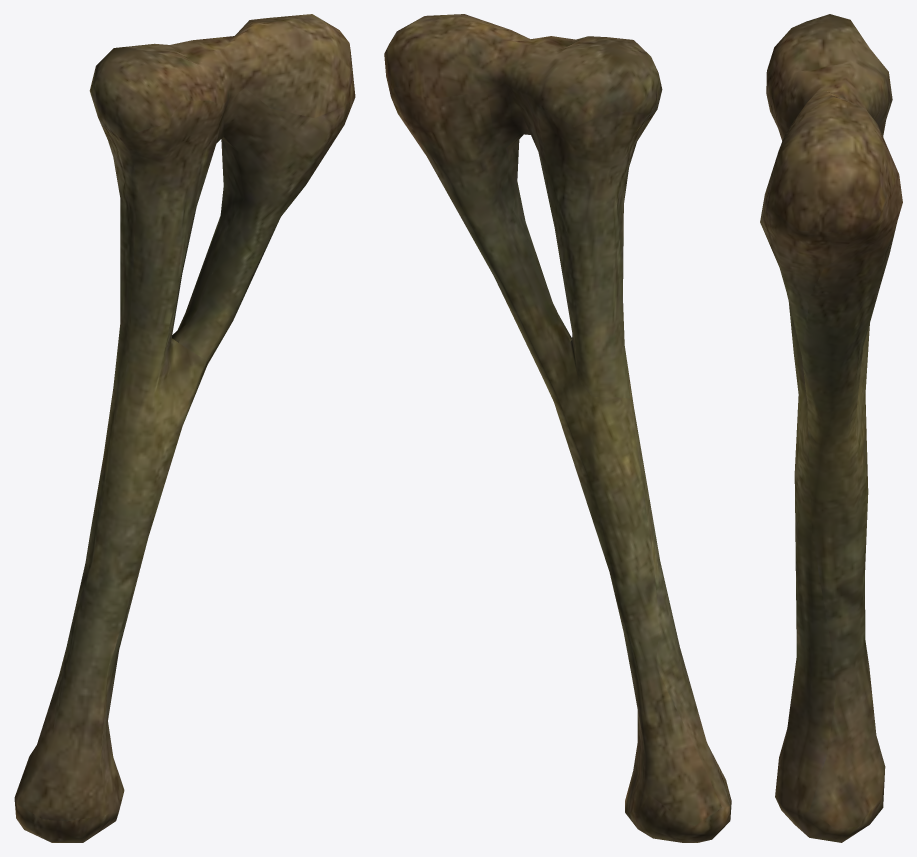
Rendered from Biomass - B 2-DSWqhJk_.glb.
The picture shows the model from 3 angles, left to right: view 1: azimuth 30°, elevation 25°; view 2: azimuth 150°, elevation 25°; view 3: azimuth 270°, elevation 25°; orthographic projection. The views are drawn at different scales.
Visible parts, largest first — view 1: BiomassB_2; view 2: BiomassB_2; view 3: BiomassB_2.
Part boxes in pixels (x1,y1,x2,y2): BiomassB_2: (14,14,355,842); BiomassB_2: (384,14,731,842); BiomassB_2: (760,14,902,842).
Size of the model in its own units: 0.9193 by 2.04 by 0.3133.
1 material, 1 textured.
